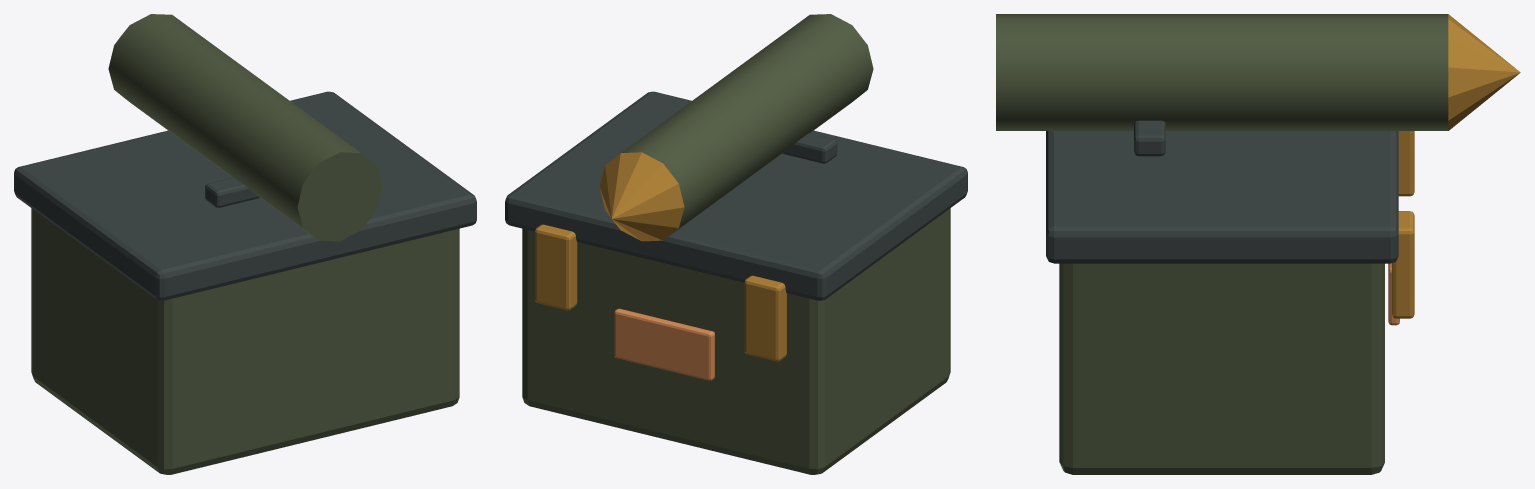
The model's file is noir-ammo-rocket.glb.
3 views of the same model, side by side, from view 1: azimuth 30°, elevation 25°; view 2: azimuth 150°, elevation 25°; view 3: azimuth 270°, elevation 25° (orthographic). The views are drawn at different scales.
Parts seen in each view (by area): view 1: noir-ammo-rocket mesh; view 2: noir-ammo-rocket mesh; view 3: noir-ammo-rocket mesh.
Part boxes in pixels (<box>): noir-ammo-rocket mesh: <box>14,14,476,474</box>; noir-ammo-rocket mesh: <box>505,14,967,474</box>; noir-ammo-rocket mesh: <box>996,14,1520,474</box>.
Size of the model in its own units: 0.49 by 0.455 by 0.58.
